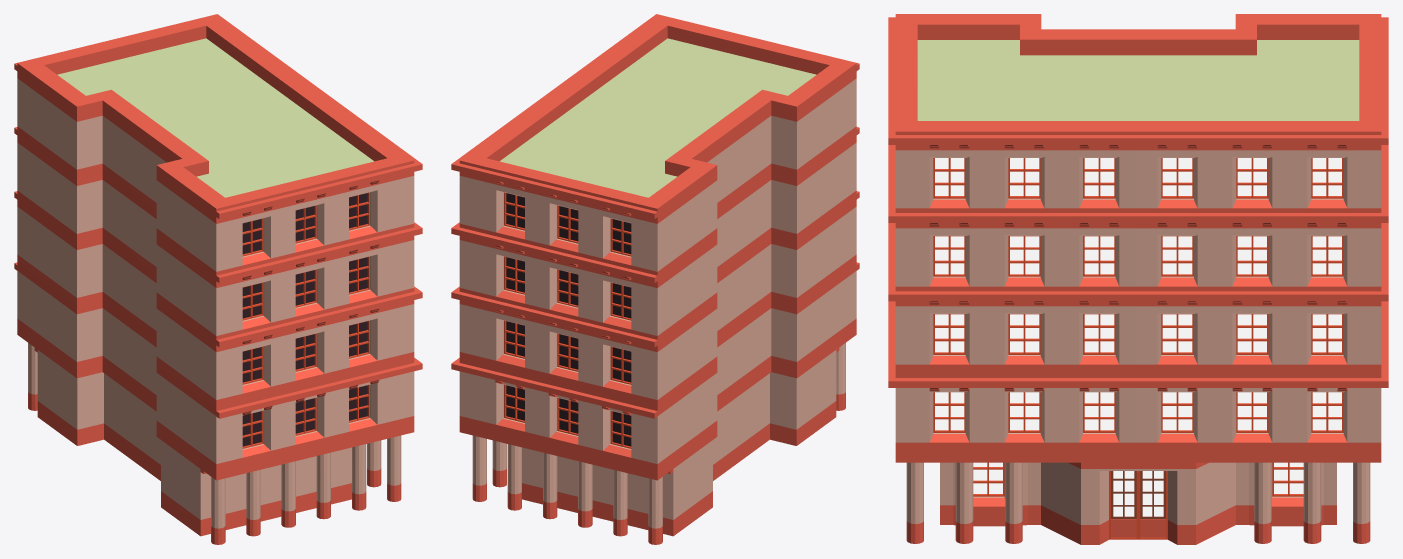
The model's file is edificio2.glb.
The picture shows the model from 3 angles, left to right: view 1: azimuth 30°, elevation 25°; view 2: azimuth 150°, elevation 25°; view 3: azimuth 270°, elevation 25°; orthographic projection. The views are drawn at different scales.
Parts seen in each view (by area): view 1: PublicBuilding_10_Pack3_0.001; view 2: PublicBuilding_10_Pack3_0.001; view 3: PublicBuilding_10_Pack3_0.001.
Boxes of the visible parts, <box> form: PublicBuilding_10_Pack3_0.001: <box>14,14,422,544</box>; PublicBuilding_10_Pack3_0.001: <box>451,14,859,544</box>; PublicBuilding_10_Pack3_0.001: <box>888,14,1388,544</box>.
Size of the model in its own units: 4.32 by 6.93 by 7.56.
2 materials, 1 textured.
